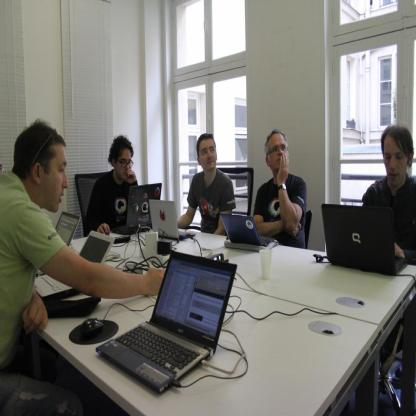board: (96, 250, 236, 393), (321, 203, 407, 273), (33, 229, 114, 298), (37, 212, 80, 274), (112, 182, 161, 236), (149, 197, 195, 238), (221, 213, 274, 246)
